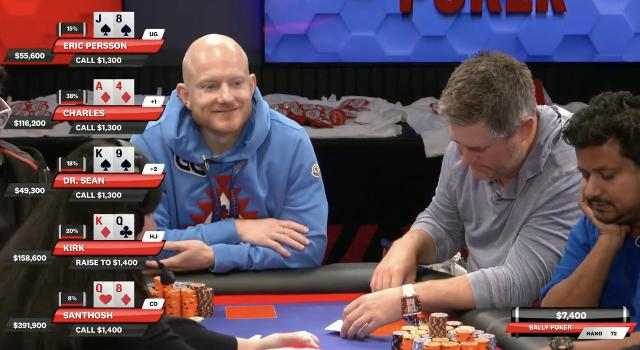4D: (114, 79, 134, 104)
8D: (116, 282, 134, 308)
8S: (116, 13, 134, 37)
9S: (114, 148, 134, 174)
AD: (94, 78, 115, 104)
JS: (95, 13, 114, 37)
KD: (95, 214, 114, 240)
KS: (94, 148, 112, 172)
QC: (116, 214, 134, 240)
QH: (94, 282, 115, 306)
